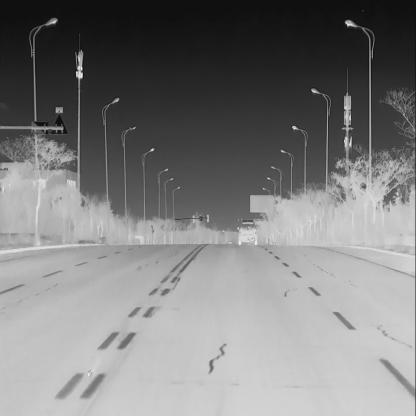car: (237, 219, 259, 246)
